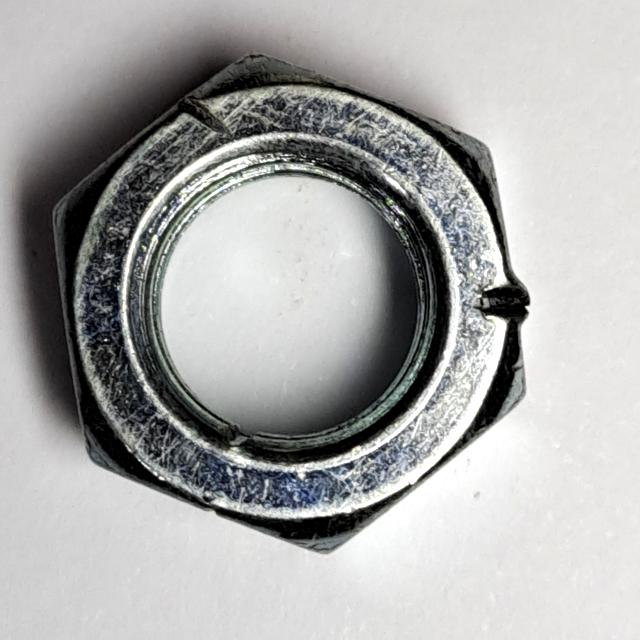Scratches: (36, 27, 545, 576)
